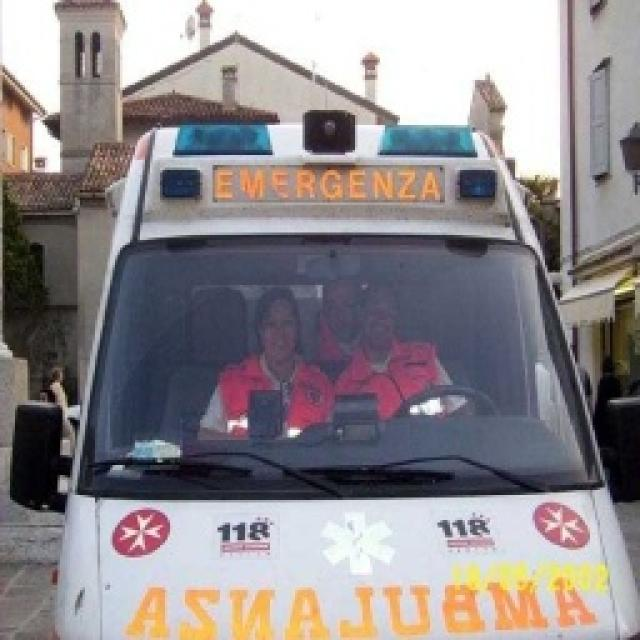emergency-vehicle: (22, 62, 640, 639)
